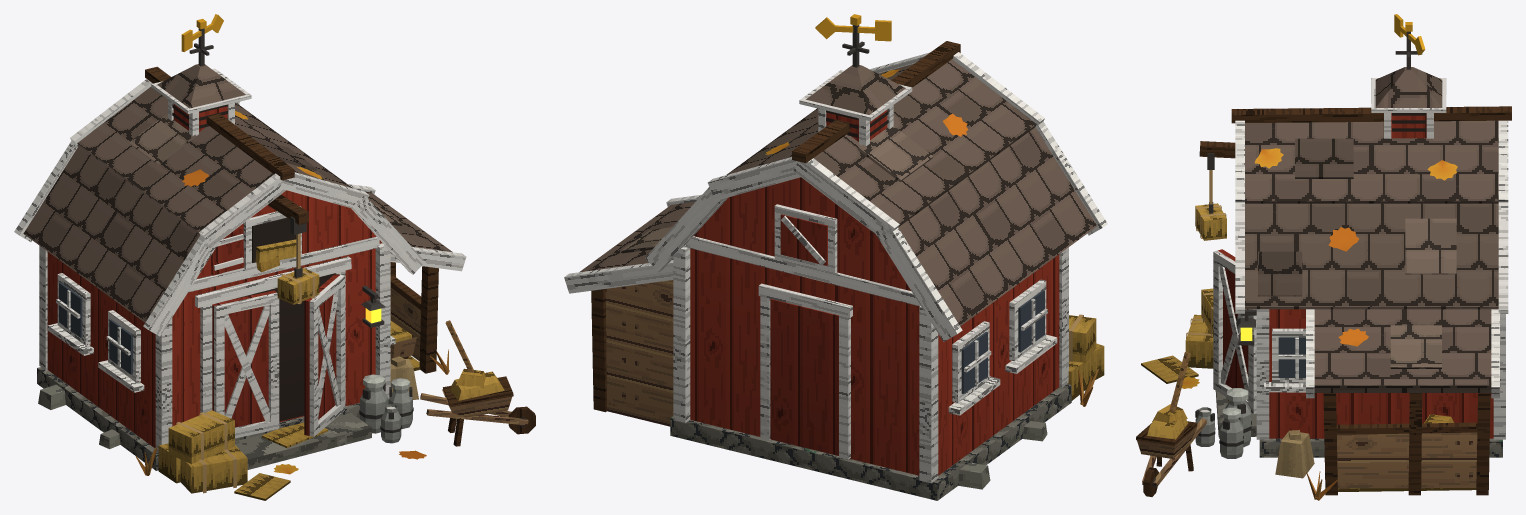
File: barn.glb
3 views of the same model, side by side, from view 1: azimuth 30°, elevation 25°; view 2: azimuth 150°, elevation 25°; view 3: azimuth 270°, elevation 25° (orthographic). The views are drawn at different scales.
Visible parts, largest first — view 1: barn, sway_hoist, sway_vane; view 2: barn, sway_vane; view 3: barn, sway_hoist, sway_vane.
Boxes of the visible parts, x1,y1,x2,y2 form: barn: (14, 28, 535, 500); sway_hoist: (277, 233, 319, 304); sway_vane: (181, 14, 223, 51); barn: (564, 25, 1107, 500); sway_vane: (815, 14, 891, 41); barn: (1136, 31, 1511, 500); sway_hoist: (1195, 170, 1226, 240); sway_vane: (1394, 14, 1425, 55).
Bounding box in the file's own units: 5.66 × 5.66 × 5.11.
30 materials, 19 textured.
